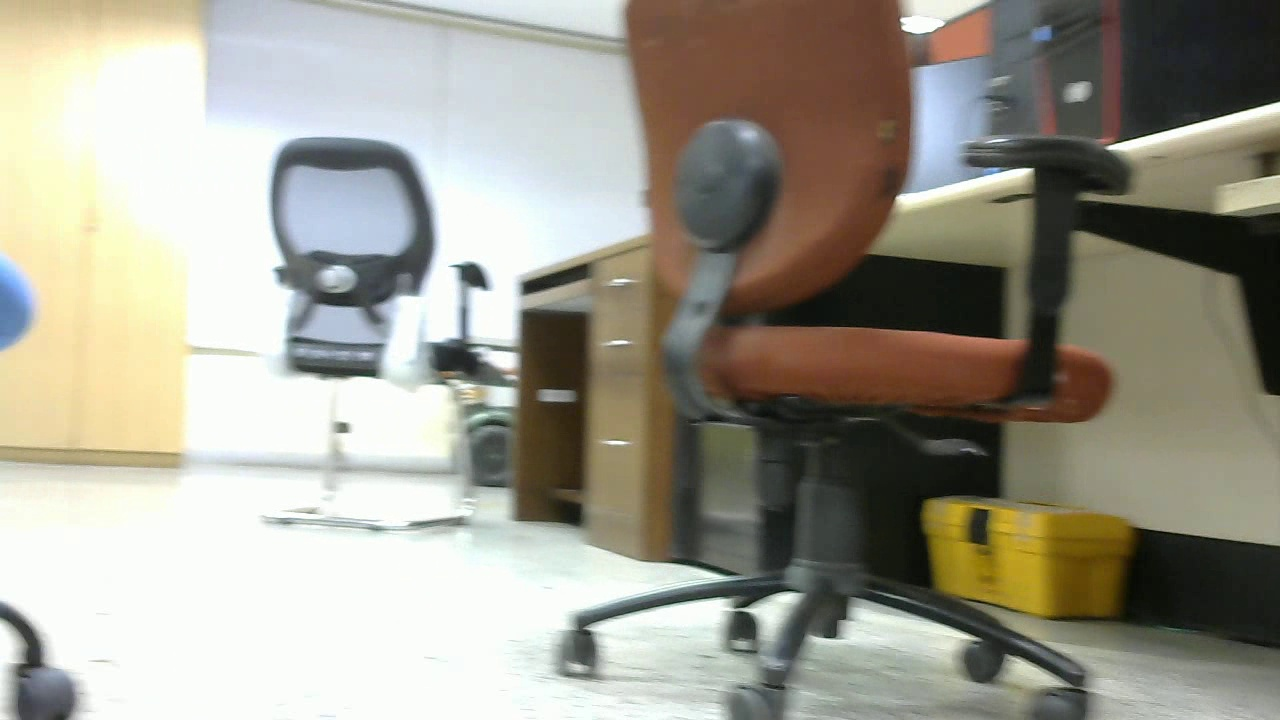chair: (518, 4, 1144, 720), (249, 124, 490, 560)
